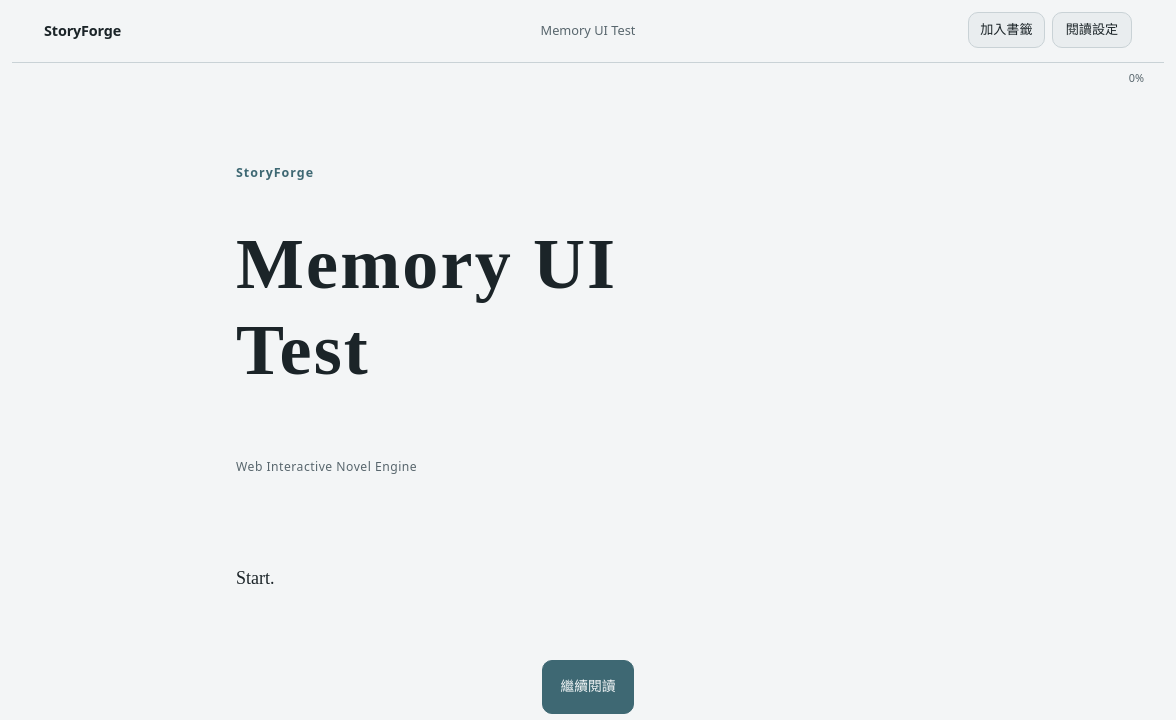
Scenario: StorySession Reader Memory integration › keeps persisted Memory when the later Runtime write fails
The width and height of the screenshot is (1176, 720).
Click the button "繼續閱讀" at (588, 686), box [542, 660, 634, 714]
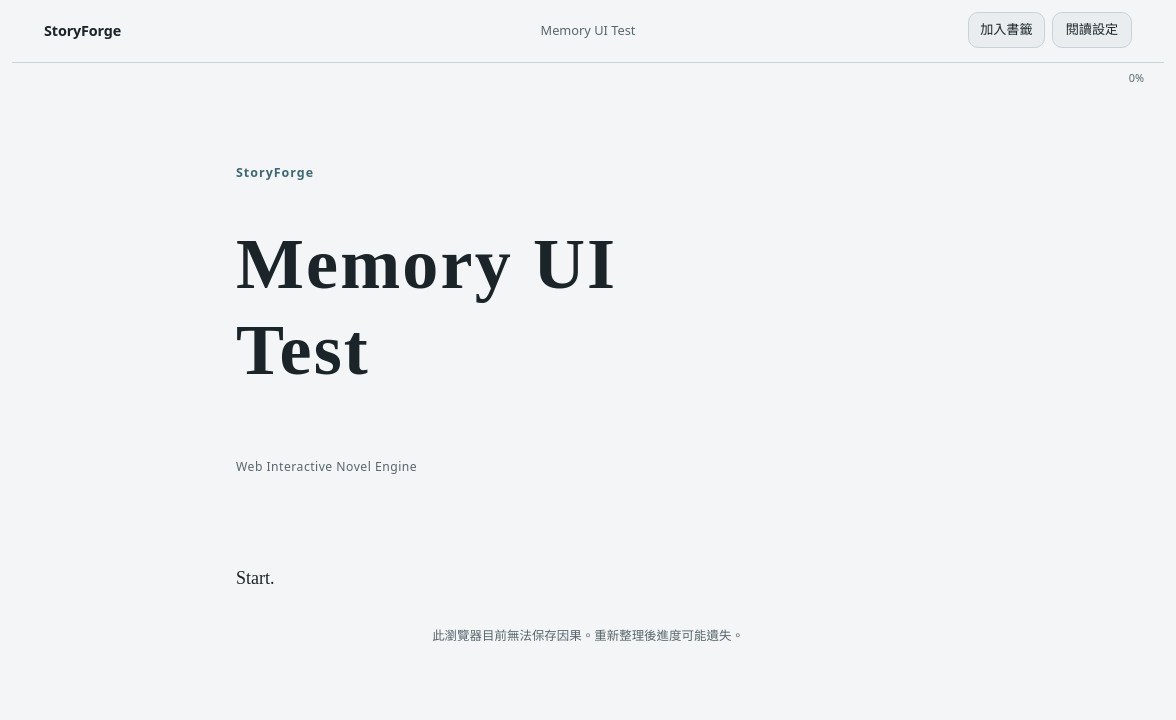
Result: the text "此瀏覽器目前無法保存因果。重新整理後進度可能遺失。" is shown at [432, 627, 744, 644]
